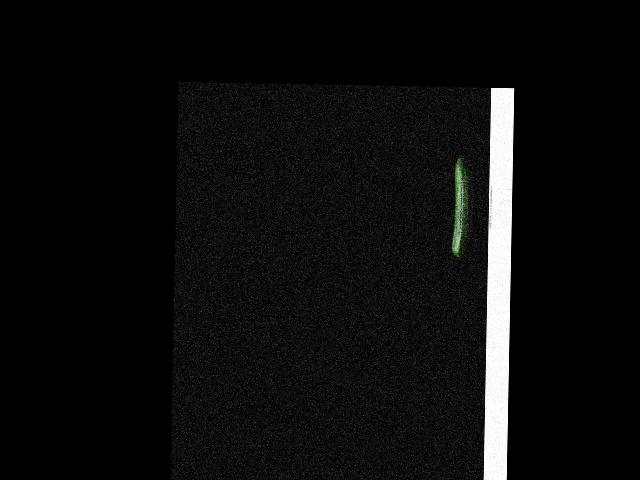cucumber: (452, 155, 469, 258)
